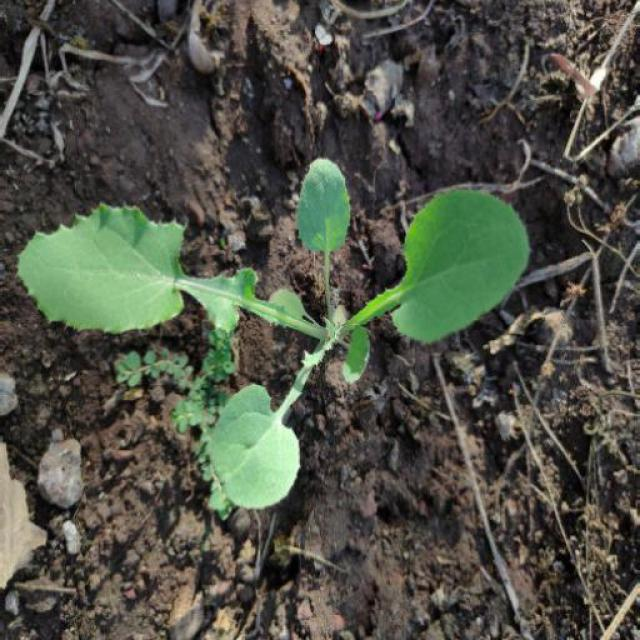weed: (15, 146, 543, 510)
